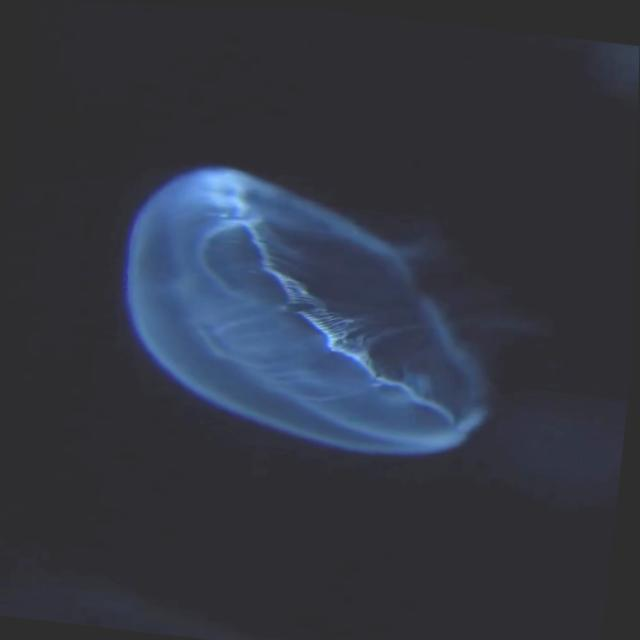Moon-jellyfish: (119, 163, 497, 455)
